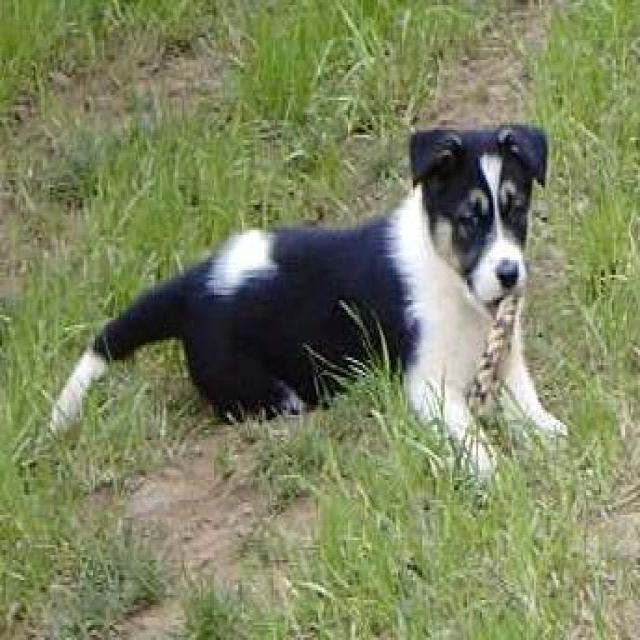dog: (43, 120, 569, 490)
